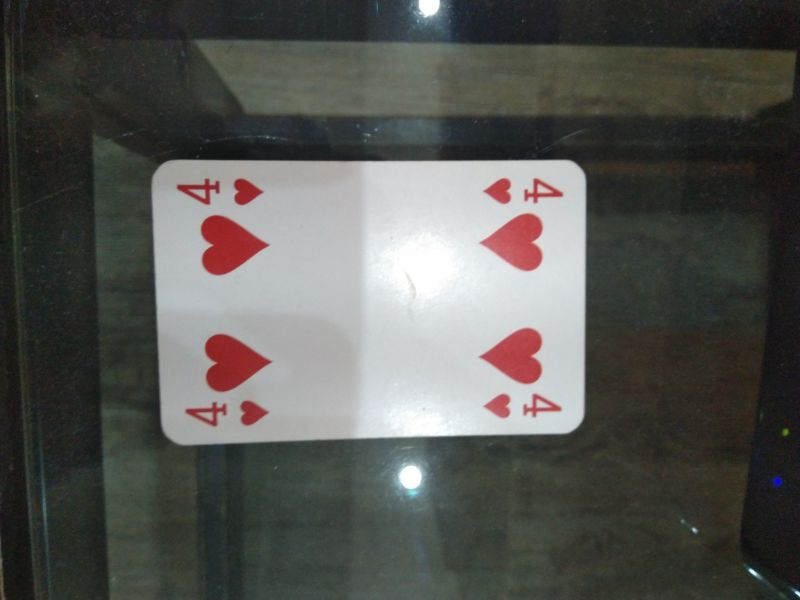4h: (182, 395, 277, 432), (172, 174, 270, 208), (478, 172, 570, 206), (482, 387, 565, 422)
